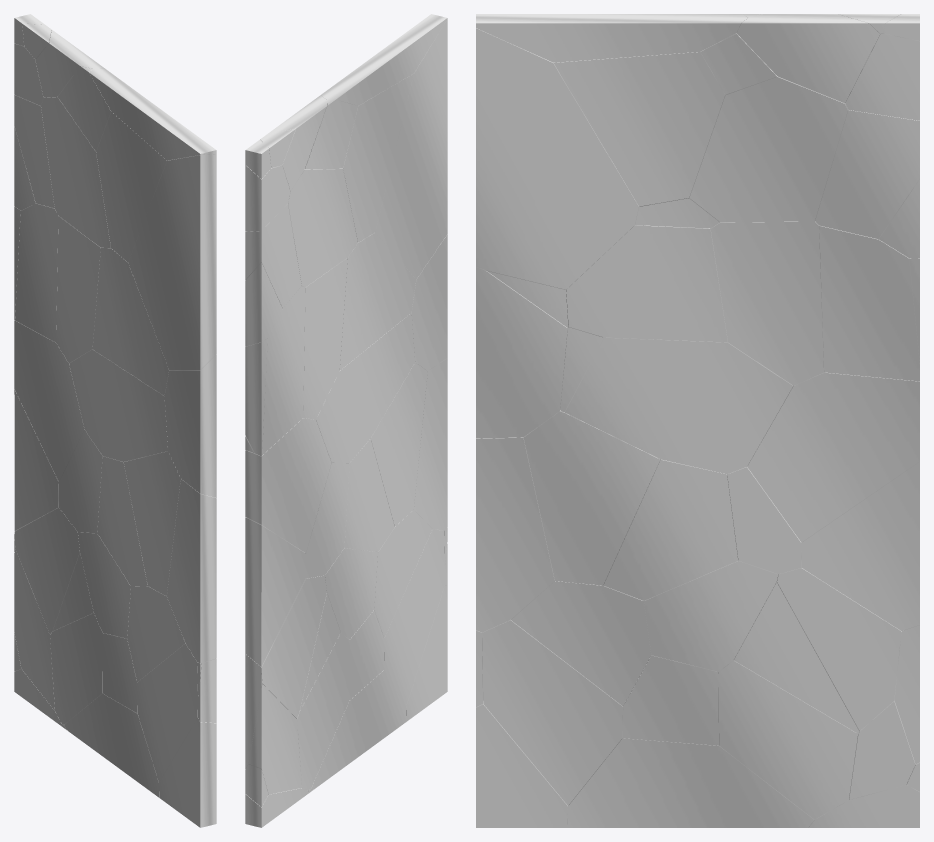
Rendered from BrokenGlassPieces.fbx.
3 renders of one model, left to right at view 1: azimuth 30°, elevation 25°; view 2: azimuth 150°, elevation 25°; view 3: azimuth 270°, elevation 25°, orthographic. The views are drawn at different scales.
Parts seen in each view (by area): view 1: Cube_cell.028, Cube_cell.016, Cube_cell.033, Cube_cell.022, Cube_cell.023, Cube_cell.010, Cube_cell.008, Cube_cell.032, Cube_cell.011, Cube_cell.036, Cube_cell.030, Cube_cell.031 (+23 smaller); view 2: Cube_cell.028, Cube_cell.022, Cube_cell.016, Cube_cell.023, Cube_cell.010, Cube_cell.034, Cube_cell.008, Cube_cell.011, Cube_cell.036, Cube_cell.030, Cube_cell.031, Cube_cell.043 (+24 smaller); view 3: Cube_cell.028, Cube_cell.016, Cube_cell.022, Cube_cell.008, Cube_cell.010, Cube_cell.040, Cube_cell.036, Cube_cell.023, Cube_cell.011, Cube_cell.031, Cube_cell.013, Cube_cell.030 (+23 smaller).
Part boxes in pixels (box(x1,y1,x2,y2)): Cube_cell.028: box(128, 154, 216, 369); Cube_cell.016: box(69, 349, 167, 461); Cube_cell.033: box(166, 479, 216, 663); Cube_cell.022: box(14, 320, 84, 481); Cube_cell.023: box(92, 247, 169, 395); Cube_cell.010: box(96, 111, 166, 262); Cube_cell.008: box(41, 97, 110, 247); Cube_cell.032: box(164, 354, 216, 497); Cube_cell.011: box(137, 643, 198, 782); Cube_cell.036: box(123, 451, 180, 595); Cube_cell.030: box(15, 203, 58, 342); Cube_cell.031: box(56, 216, 100, 363); Cube_cell.028: box(375, 19, 447, 279); Cube_cell.022: box(245, 418, 331, 553); Cube_cell.016: box(316, 313, 414, 463); Cube_cell.023: box(339, 233, 416, 370); Cube_cell.010: box(343, 73, 413, 242); Cube_cell.034: box(245, 517, 305, 666); Cube_cell.008: box(288, 168, 357, 287); Cube_cell.011: box(384, 529, 444, 706); Cube_cell.036: box(370, 362, 427, 526); Cube_cell.030: box(245, 286, 305, 455); Cube_cell.031: box(303, 257, 347, 419); Cube_cell.043: box(261, 575, 326, 718); Cube_cell.028: box(476, 28, 638, 289); Cube_cell.016: box(564, 337, 792, 473); Cube_cell.022: box(747, 372, 919, 542); Cube_cell.008: box(689, 76, 848, 222); Cube_cell.010: box(553, 52, 725, 206); Cube_cell.040: box(567, 738, 813, 827); Cube_cell.036: box(523, 410, 660, 585); Cube_cell.023: box(566, 225, 727, 342); Cube_cell.011: box(482, 620, 624, 805); Cube_cell.031: box(710, 221, 823, 385); Cube_cell.013: box(717, 660, 857, 819); Cube_cell.030: box(819, 225, 919, 381).
Size of the model in its own units: 20 by 800 by 400.
